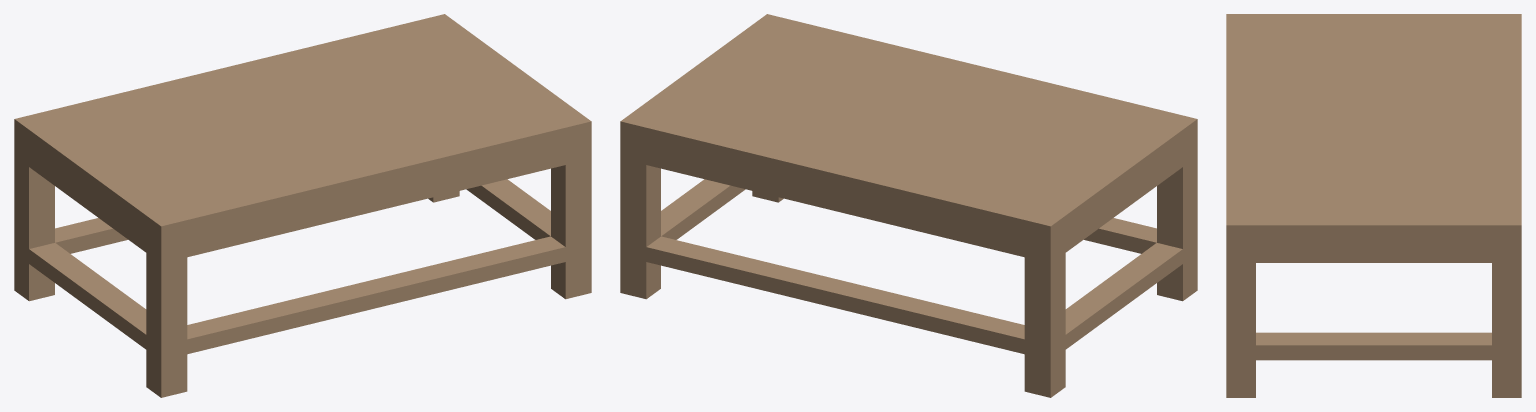
The model's file is coffee_table.glb.
3 views of the same model, side by side, from view 1: azimuth 30°, elevation 25°; view 2: azimuth 150°, elevation 25°; view 3: azimuth 270°, elevation 25° (orthographic).
Parts seen in each view (by area): view 1: tableCoffee(Clone); view 2: tableCoffee(Clone); view 3: tableCoffee(Clone).
Part boxes in pixels (x1=…): tableCoffee(Clone): x1=14, y1=14, x2=591, y2=397; tableCoffee(Clone): x1=620, y1=14, x2=1197, y2=397; tableCoffee(Clone): x1=1226, y1=14, x2=1521, y2=397.
Bounding box in the file's own units: 1.05 × 0.4 × 0.62.
